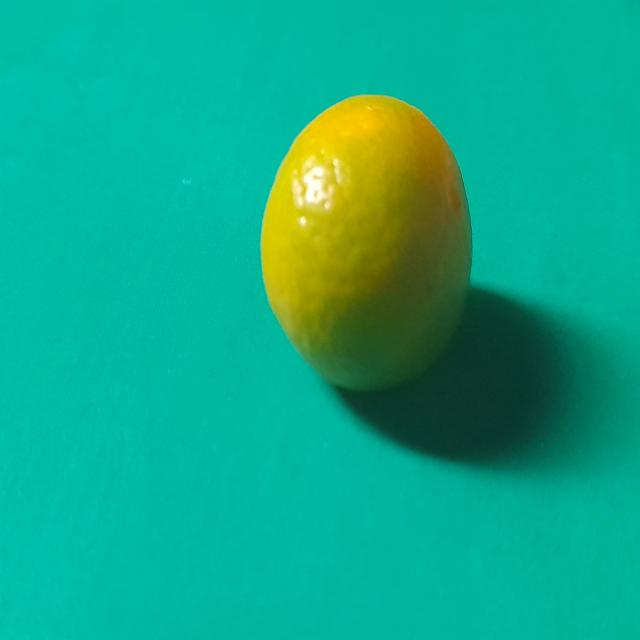greening: (251, 86, 484, 406)
